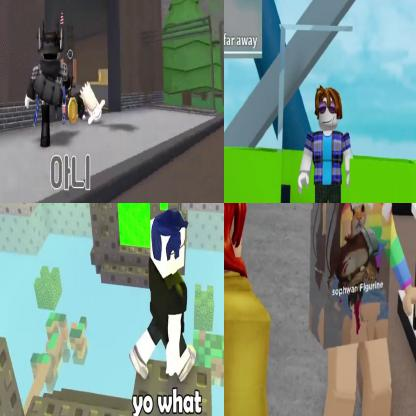Roblox-Avatar: (313, 204, 416, 416), (130, 210, 197, 383), (225, 204, 272, 416), (299, 84, 354, 203), (26, 18, 72, 148), (79, 83, 106, 126)
